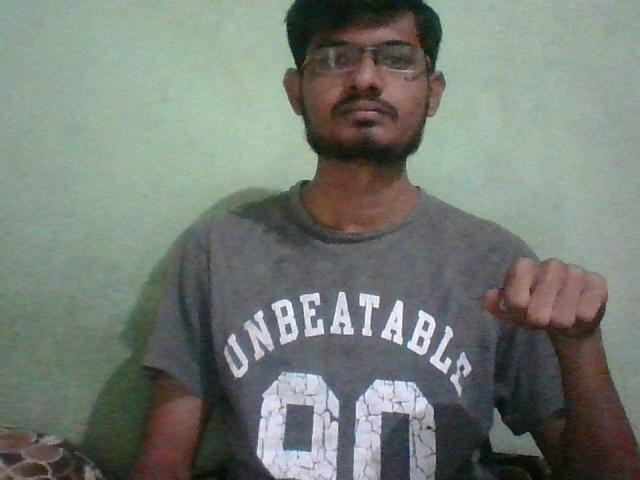yes: (470, 235, 626, 368)
